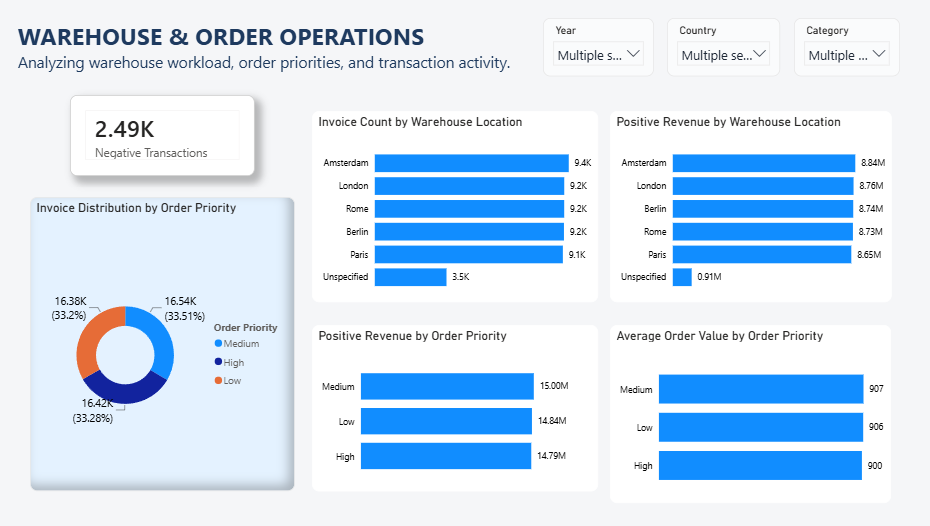

Layout of this report page (visuals, bound fields, positions):
{"tool":"powerbi","page":{"name":"Warehouse & Order Operations","canvas":[1280,720],"ordinal":4},"visuals":[{"type":"textbox","box":[23.4,22,705.4,87.8],"z":0},{"type":"slicer","fields":{"Values":["DimDate.Year"]},"box":[747.8,24.9,152.2,80.5],"z":1000},{"type":"slicer","fields":{"Values":["DimCustomer.category"]},"box":[1091.7,24.9,144.9,80.5],"z":2000},{"type":"slicer","fields":{"Values":["DimCustomer.country"]},"box":[917.6,24.9,155.1,80.5],"z":3000},{"type":"clusteredBarChart","fields":{"Category":["FactSales.warehouselocation"],"Y":["FactSales.Invoice Count"]},"box":[432,152.6,391.7,262.1],"z":4000},{"type":"clusteredBarChart","fields":{"Category":["FactSales.warehouselocation"],"Y":["FactSales.Positive Revenue"]},"box":[839.5,152.6,385.9,262.1],"z":5000},{"type":"donutChart","title":"Invoice Distribution by Order Priority","fields":{"Category":["FactSales.orderpriority"],"Y":["FactSales.Invoice Count"]},"box":[44.6,269.3,362.9,403.2],"z":6000},{"type":"clusteredBarChart","fields":{"Y":["FactSales.Positive Revenue"],"Category":["FactSales.orderpriority"]},"box":[432,445,391.7,227.5],"z":7000},{"type":"clusteredBarChart","title":"Average Order Value by Order Priority","fields":{"Y":["FactSales.Average Order Value"],"Category":["FactSales.orderpriority"]},"box":[840,444.9,384.9,244.4],"z":8000},{"type":"cardVisual","fields":{"Data":["FactSales.Negative Transactions"]},"box":[99.4,129.6,253.4,110.9],"z":10001}]}

Visuals, with their boxes in screenshot pixels (x1, y1, x2, y2), scaled from the page's 1280x720 canvas onto the 930x526 screenshot:
textbox: locate(17, 16, 530, 80)
slicer - DimDate.Year: locate(543, 18, 654, 77)
slicer - DimCustomer.category: locate(793, 18, 898, 77)
slicer - DimCustomer.country: locate(667, 18, 779, 77)
clusteredBarChart - FactSales.warehouselocation x FactSales.Invoice Count: locate(314, 111, 598, 303)
clusteredBarChart - FactSales.warehouselocation x FactSales.Positive Revenue: locate(610, 111, 890, 303)
"Invoice Distribution by Order Priority" donutChart: locate(32, 197, 296, 491)
clusteredBarChart - FactSales.Positive Revenue x FactSales.orderpriority: locate(314, 325, 598, 491)
"Average Order Value by Order Priority" clusteredBarChart: locate(610, 325, 890, 504)
cardVisual - FactSales.Negative Transactions: locate(72, 95, 256, 176)
